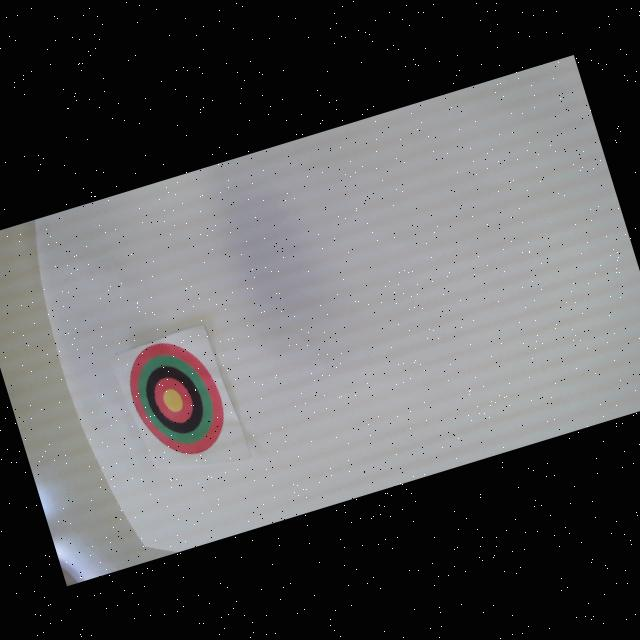COGNITIVE: (118, 330, 235, 468)
